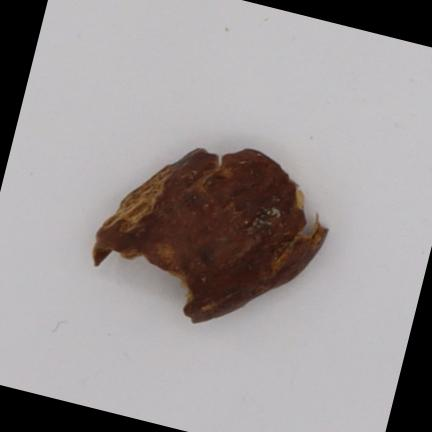husk: (93, 149, 327, 322)
